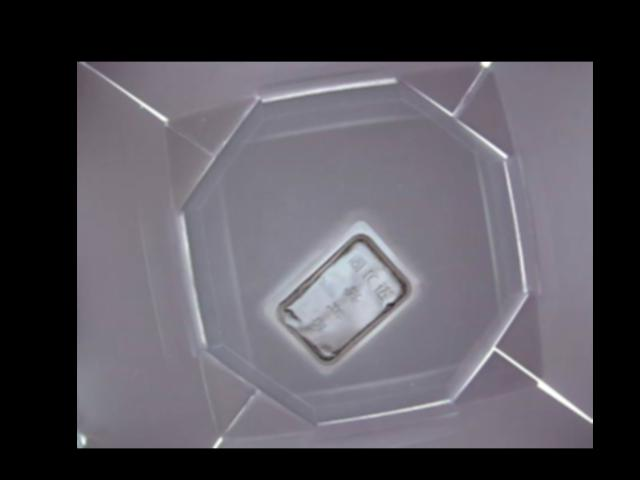Medicine: (271, 220, 418, 374)
